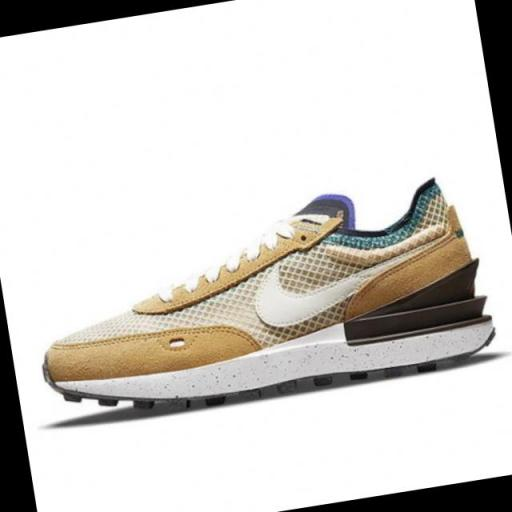Nike: (241, 225, 462, 334)
